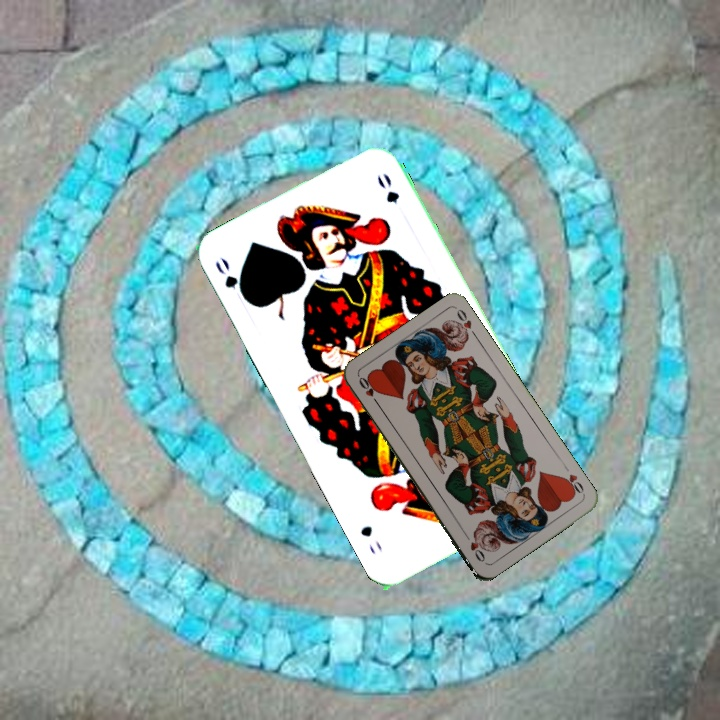GO: (210, 253, 252, 306)
HO: (558, 461, 587, 498), (354, 373, 382, 409)
